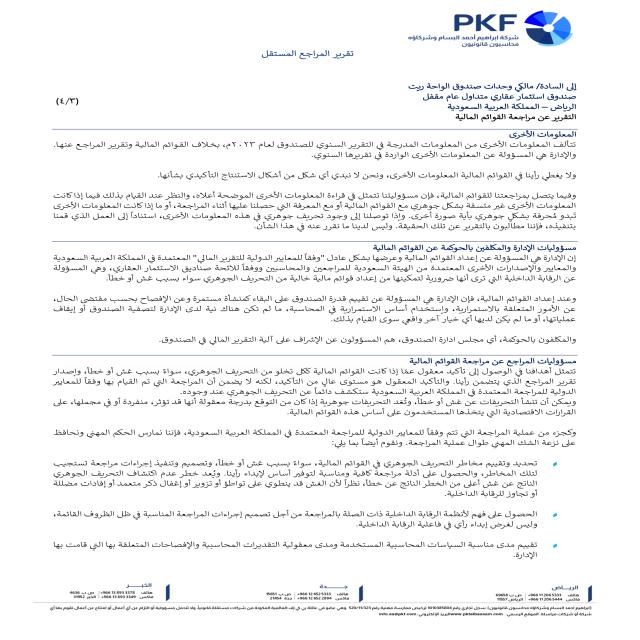auditor_report: (247, 42, 365, 66)
